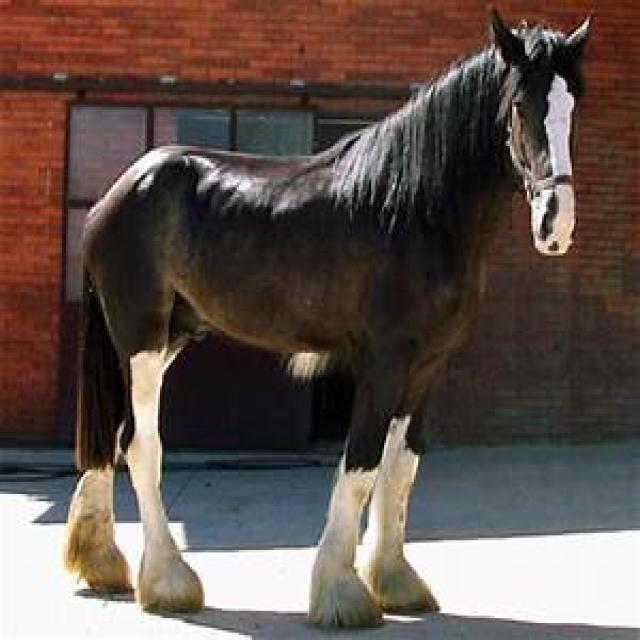animal: (62, 5, 593, 630)
